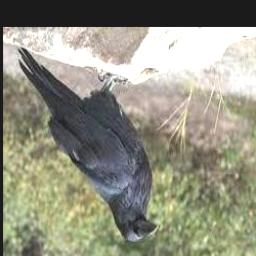Crow: (19, 48, 160, 243)
